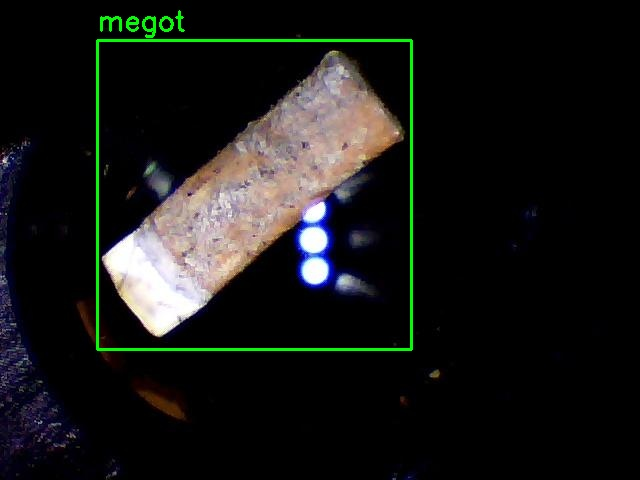megot: (97, 40, 411, 349)
